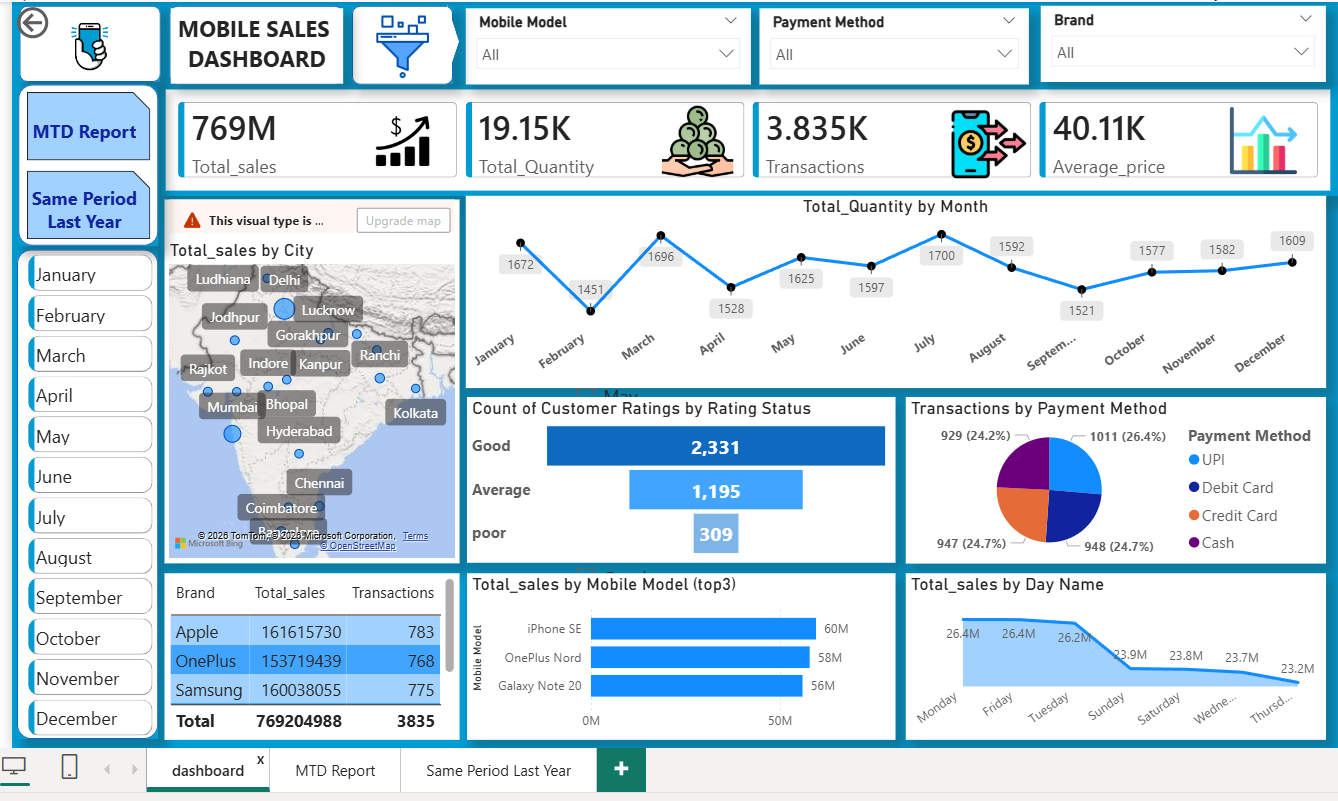

The dashboard page shown, as its layout file describes it:
{"tool":"powerbi","page":{"name":"dashboard","canvas":[1280,720],"ordinal":0},"visuals":[{"type":"shape","box":[7.2,3.6,136.3,73.6],"z":0},{"type":"image","box":[16.9,12.1,119.4,61.5],"z":1000},{"type":"shape","box":[5,238.8,136.2,472.5],"z":2000},{"type":"slicer","fields":{"Values":["Custom_Calendar.Date.Variation.Date Hierarchy.Month"]},"box":[532,199.1,130.3,448.8],"z":3000},{"type":"cardVisual","fields":{"Data":["Sales_Data.Total_sales","Sales_Data.Total_Quantity","Sales_Data.Transactions","Sales_Data.Average_price"]},"box":[143.6,79.6,1136.5,107.4],"z":4000},{"type":"image","box":[334.2,101.3,85.7,65.1],"z":5000},{"type":"image","box":[620.1,97.7,83.2,73.6],"z":6000},{"type":"image","box":[903.6,101.3,78.4,72.4],"z":7000},{"type":"image","box":[1171.5,101.3,72.4,65.1],"z":8000},{"type":"slicer","fields":{"Values":["Sales_Data.Mobile Model"]},"box":[437.5,6.2,275,73.8],"z":9000},{"type":"slicer","fields":{"Values":["Sales_Data.Payment Method"]},"box":[721.2,6.2,260,73.8],"z":10000},{"type":"slicer","fields":{"Values":["Sales_Data.Brand"]},"box":[992.5,3.8,275,73.8],"z":11000},{"type":"shape","box":[328.8,3.8,97.5,76.2],"z":12000},{"type":"image","box":[340,12.5,73.8,62.5],"z":13000},{"type":"shape","box":[407.5,1.2,23.8,73.8],"z":14000},{"type":"shape","box":[152.5,3.8,167.5,76.2],"z":15000},{"type":"textbox","box":[153.8,6.2,166.2,72.5],"z":16000},{"type":"map","fields":{"Category":["Sales_Data.City"],"Size":["Sales_Data.Total_sales"]},"box":[147.2,190.6,284.7,351.1],"z":17000},{"type":"lineChart","fields":{"Category":["Custom_Calendar.Date.Variation.Date Hierarchy.Month"],"Y":["Sales_Data.Total_Quantity"]},"box":[437.9,187,830,185.8],"z":18000},{"type":"funnel","fields":{"Y":["CountNonNull(Sales_Data.Customer Ratings)"],"Category":["Sales_Data.Rating Status"]},"box":[438.8,381.2,413.8,160],"z":19000},{"type":"shape","box":[6,79.6,135.1,155.6],"z":20000},{"type":"pieChart","fields":{"Category":["Sales_Data.Payment Method"],"Y":["Sales_Data.Transactions"]},"box":[862.6,381.2,405.4,160.5],"z":21000},{"type":"clusteredBarChart","title":"Total_sales by Mobile Model (top3)","fields":{"Y":["Sales_Data.Total_sales"],"Category":["Sales_Data.Mobile Model"]},"box":[439.1,551.3,413.8,160.5],"z":22000},{"type":"areaChart","fields":{"Y":["Sales_Data.Total_sales"],"Category":["Custom_Calendar.Day Name"]},"box":[862.6,551.3,405.4,160.5],"z":23000},{"type":"tableEx","fields":{"Values":["Sales_Data.Brand","Sales_Data.Total_sales","Sales_Data.Transactions"]},"box":[147.2,551.3,284.7,160.5],"z":24000},{"type":"actionButton","box":[0,0,100,40],"z":25000},{"type":"pageNavigator","box":[14.5,86.9,119.4,142.4],"z":26000},{"type":"advancedSlicerVisual","fields":{"Values":["Custom_Calendar.Date.Variation.Date Hierarchy.Month"]},"box":[10.9,238.9,130.3,481.4],"z":27000}]}

Visuals, with their boxes in screenshot pixels (x1, y1, x2, y2):
shape: <bbox>18, 4, 158, 80</bbox>
image: <bbox>28, 12, 151, 76</bbox>
shape: <bbox>16, 246, 156, 733</bbox>
slicer - Custom_Calendar.Date.Variation.Date Hierarchy.Month: <bbox>559, 205, 693, 668</bbox>
cardVisual - Sales_Data.Total_sales x Sales_Data.Total_Quantity: <bbox>158, 82, 1330, 193</bbox>
image: <bbox>355, 104, 443, 172</bbox>
image: <bbox>650, 101, 735, 177</bbox>
image: <bbox>942, 104, 1023, 179</bbox>
image: <bbox>1218, 104, 1293, 172</bbox>
slicer - Sales_Data.Mobile Model: <bbox>461, 6, 745, 82</bbox>
slicer - Sales_Data.Payment Method: <bbox>754, 6, 1022, 82</bbox>
slicer - Sales_Data.Brand: <bbox>1034, 4, 1317, 80</bbox>
shape: <bbox>349, 4, 450, 82</bbox>
image: <bbox>361, 13, 437, 77</bbox>
shape: <bbox>431, 1, 455, 77</bbox>
shape: <bbox>168, 4, 340, 82</bbox>
textbox: <bbox>169, 6, 340, 81</bbox>
map - Sales_Data.City x Sales_Data.Total_sales: <bbox>162, 196, 456, 558</bbox>
lineChart - Custom_Calendar.Date.Variation.Date Hierarchy.Month x Sales_Data.Total_Quantity: <bbox>462, 193, 1317, 384</bbox>
funnel - CountNonNull(Sales_Data.Customer Ratings) x Sales_Data.Rating Status: <bbox>463, 393, 889, 558</bbox>
shape: <bbox>17, 82, 156, 242</bbox>
pieChart - Sales_Data.Payment Method x Sales_Data.Transactions: <bbox>900, 393, 1318, 558</bbox>
"Total_sales by Mobile Model (top3)" clusteredBarChart: <bbox>463, 568, 890, 734</bbox>
areaChart - Sales_Data.Total_sales x Custom_Calendar.Day Name: <bbox>900, 568, 1318, 734</bbox>
tableEx - Sales_Data.Brand x Sales_Data.Total_sales: <bbox>162, 568, 456, 734</bbox>
actionButton: <bbox>10, 0, 114, 41</bbox>
pageNavigator: <bbox>25, 90, 148, 236</bbox>
advancedSlicerVisual - Custom_Calendar.Date.Variation.Date Hierarchy.Month: <bbox>22, 246, 156, 743</bbox>
